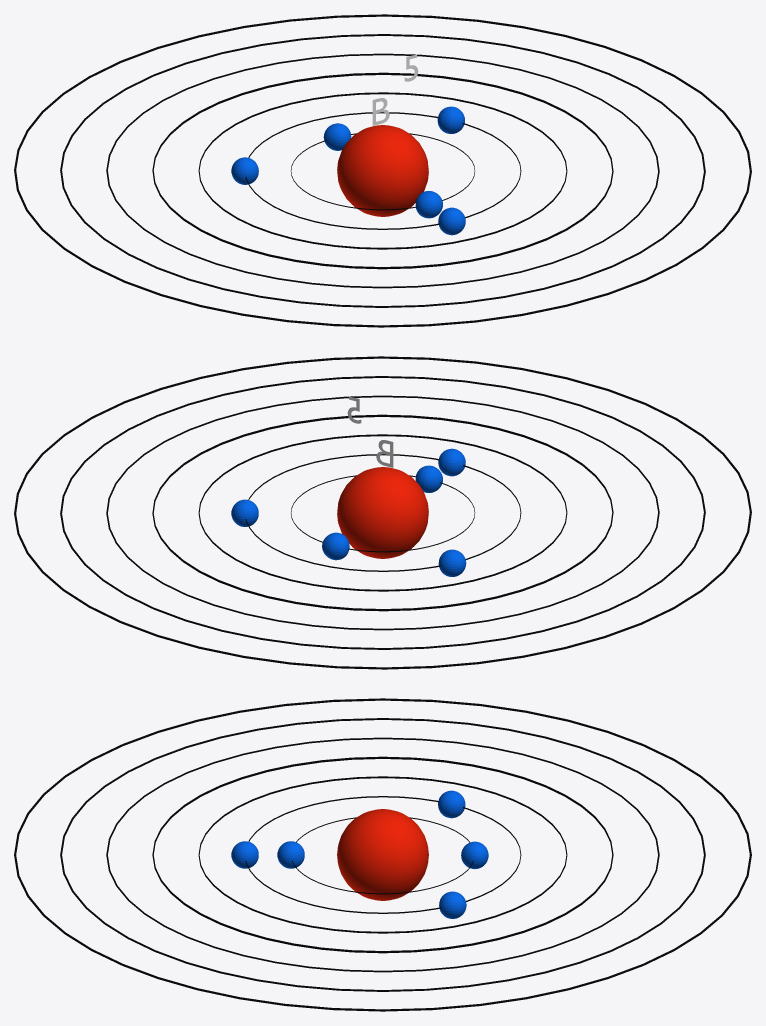
3 renders of one model, top to bottom at view 1: azimuth 30°, elevation 25°; view 2: azimuth 150°, elevation 25°; view 3: azimuth 270°, elevation 25°, orthographic.
Parts seen in each view (by area): view 1: Proton, n7, n6, n5, n4, n3, B2, B1, n2; view 2: Proton, n7, n6, n5, n4, n3, B2, B1, n2; view 3: Proton, n7, n6, n5, n4, n3, B2, B1, n2, n1.
Boxes of the visible parts, x1,y1,x2,y2 form: Proton: (337, 125, 428, 216); n7: (14, 14, 751, 327); n6: (60, 34, 705, 307); n5: (106, 53, 659, 288); n4: (152, 72, 613, 269); n3: (198, 92, 567, 249); B2: (231, 106, 465, 235); B1: (323, 123, 442, 218); n2: (245, 112, 521, 229); Proton: (337, 467, 428, 558); n7: (14, 356, 751, 669); n6: (60, 376, 705, 649); n5: (106, 395, 659, 630); n4: (152, 414, 613, 611); n3: (198, 434, 567, 591); B2: (231, 448, 466, 576); B1: (322, 465, 442, 560); n2: (245, 454, 521, 571); Proton: (337, 809, 428, 900); n7: (14, 698, 751, 1011); n6: (60, 718, 705, 991); n5: (106, 737, 659, 972); n4: (152, 756, 613, 953); n3: (198, 776, 567, 933); B2: (231, 790, 466, 918); B1: (277, 841, 488, 869); n2: (245, 796, 521, 913); n1: (292, 817, 473, 894).
Size of the model in its own units: 802 by 180 by 802.
